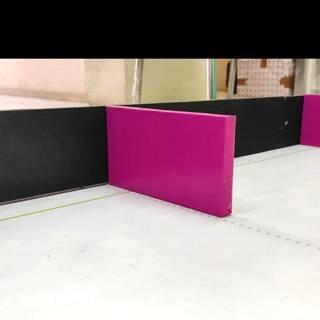xparking: (111, 115, 232, 215)
